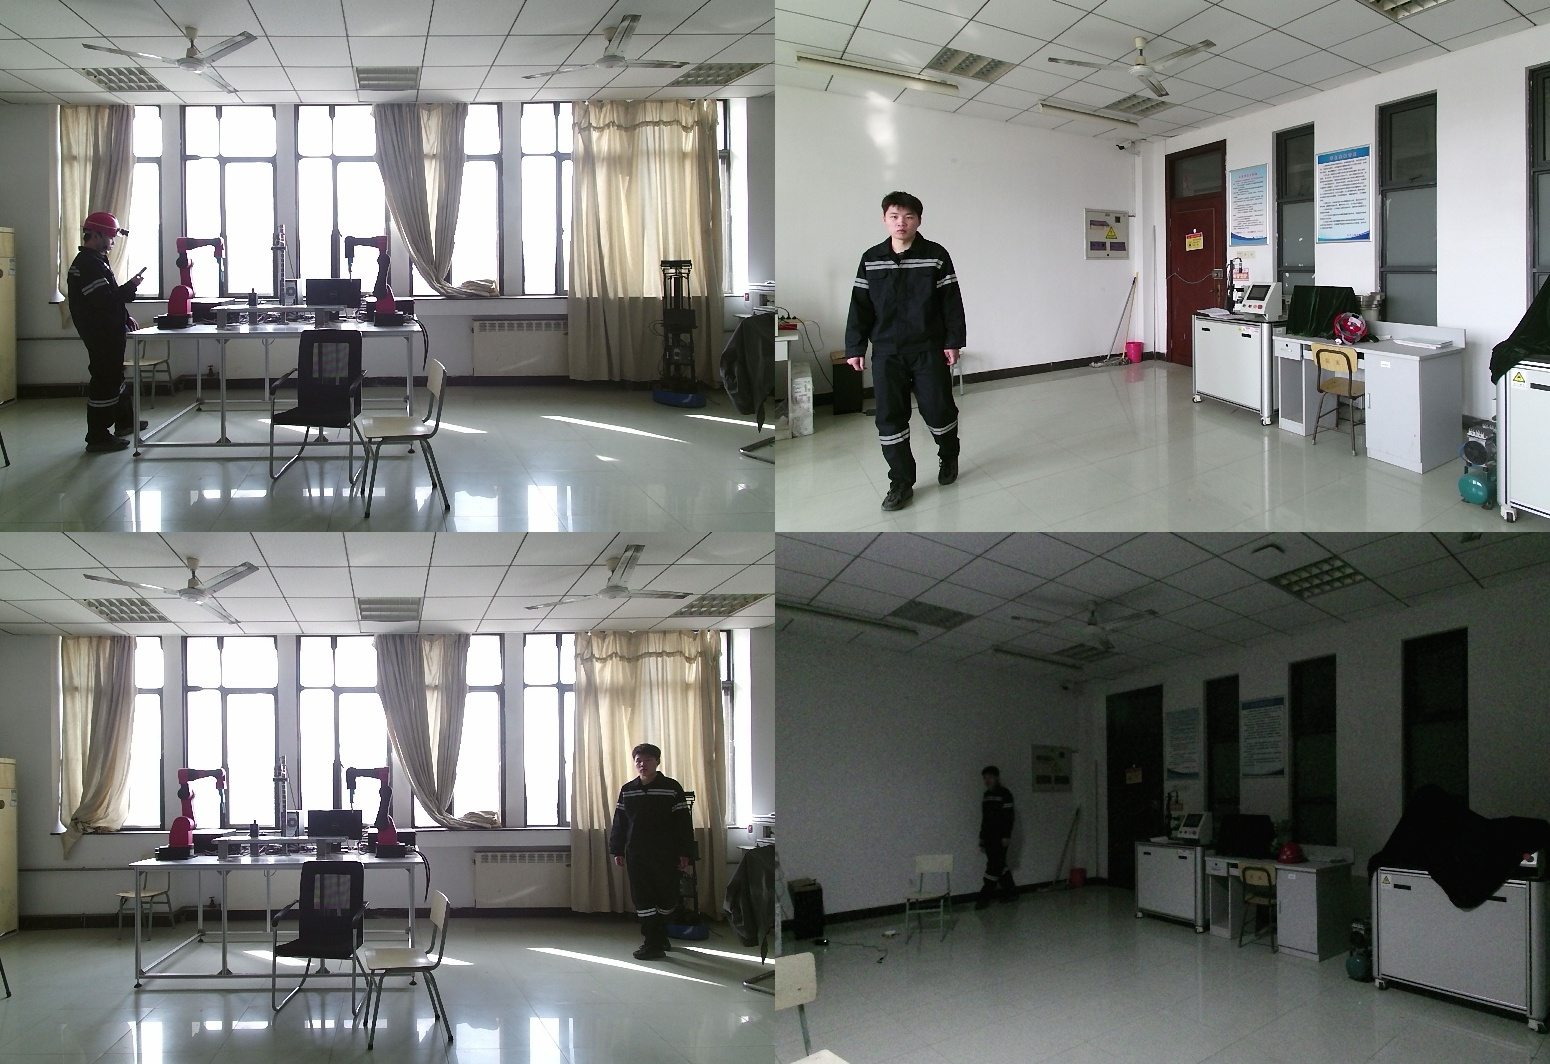person: (845, 194, 969, 512), (614, 745, 706, 962), (67, 214, 144, 454), (976, 768, 1022, 910)
